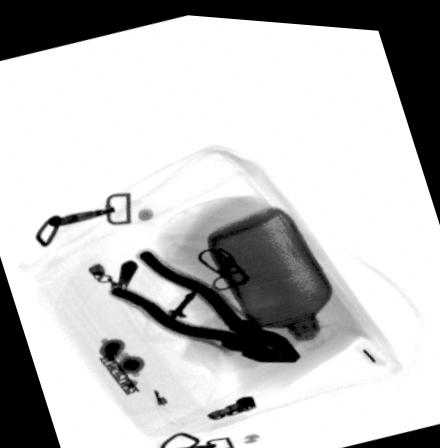Pliers: (105, 243, 301, 358)
